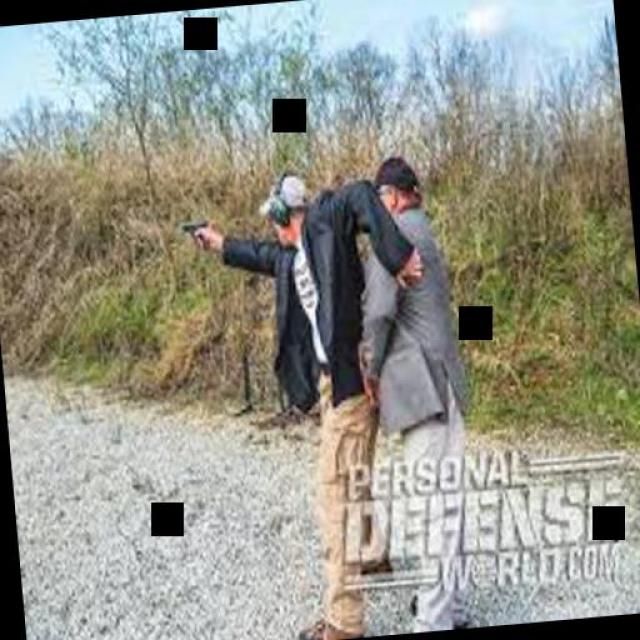gun: (173, 216, 205, 252)
